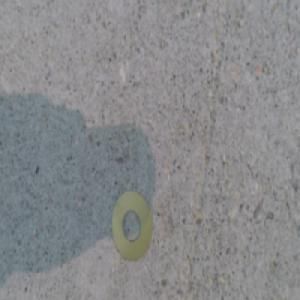Washer: (111, 187, 154, 259)
